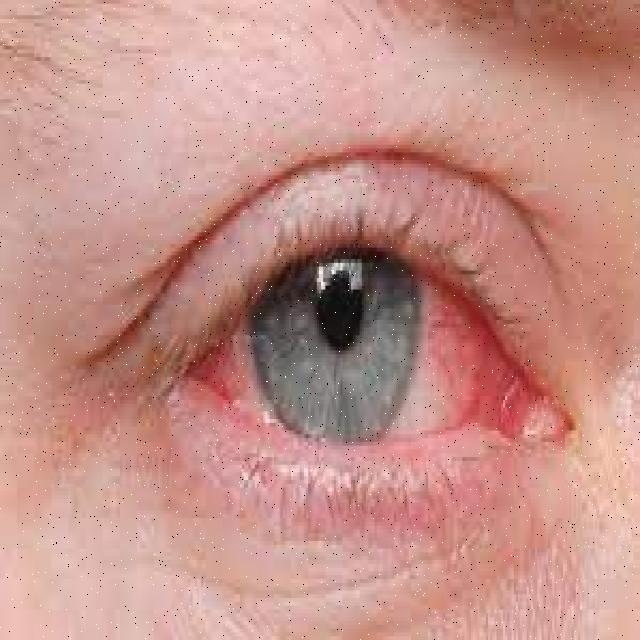Conjunctivitis: (182, 260, 570, 468)
